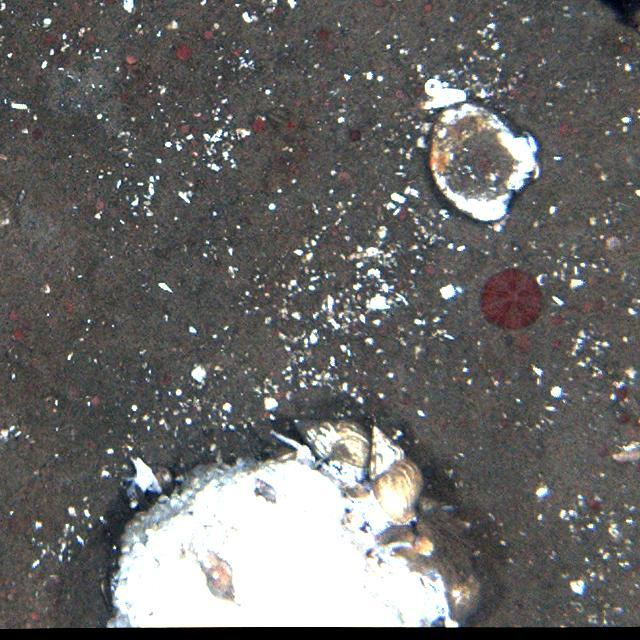whelk: (362, 422, 422, 527)
